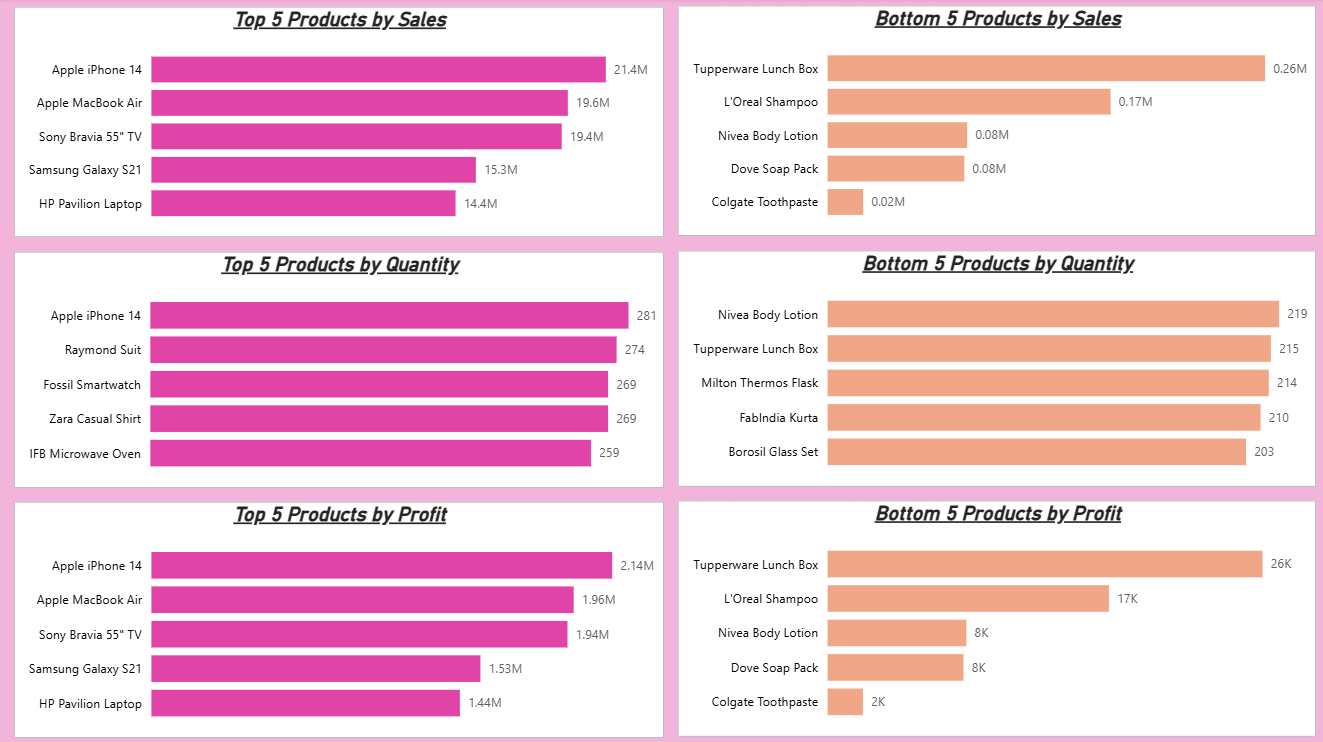

Layout of this report page (visuals, bound fields, positions):
{"tool":"powerbi","page":{"name":"Top/Bottom 5 Analysis","canvas":[1280,720],"ordinal":1},"visuals":[{"type":"barChart","title":"Top 5 Products by Sales","fields":{"Category":["Dim Product.Product Name"],"Y":["Sum(Fact Table.Net Sales)"]},"box":[14.3,8.3,627.1,222.3],"z":0},{"type":"barChart","title":"Bottom 5 Products by Sales","fields":{"Category":["Dim Product.Product Name"],"Y":["Sum(Fact Table.Net Sales)"]},"box":[654.5,7.6,616.1,222.3],"z":1000},{"type":"barChart","title":"Top 5 Products by Quantity","fields":{"Category":["Dim Product.Product Name"],"Y":["Sum(Fact Table.Units Sold)"]},"box":[14.3,244.4,627.1,227.8],"z":2000},{"type":"barChart","title":"Bottom 5 Products by Quantity","fields":{"Category":["Dim Product.Product Name"],"Y":["Sum(Fact Table.Units Sold)"]},"box":[654.5,243.6,616.1,227.8],"z":3000},{"type":"barChart","title":"Top 5 Products by Profit","fields":{"Category":["Dim Product.Product Name"],"Y":["Sum(Fact Table.Profit)"]},"box":[14.3,485.9,627.1,227.8],"z":4000},{"type":"barChart","title":"Bottom 5 Products by Profit","fields":{"Category":["Dim Product.Product Name"],"Y":["Sum(Fact Table.Profit)"]},"box":[654.5,485.1,616.1,227.8],"z":5000}]}

Visuals, with their boxes in screenshot pixels (x1, y1, x2, y2), scaled from the page's 1280x720 canvas onto the 1323x742 screenshot:
"Top 5 Products by Sales" barChart: bbox(15, 9, 663, 238)
"Bottom 5 Products by Sales" barChart: bbox(676, 8, 1313, 237)
"Top 5 Products by Quantity" barChart: bbox(15, 252, 663, 487)
"Bottom 5 Products by Quantity" barChart: bbox(676, 251, 1313, 486)
"Top 5 Products by Profit" barChart: bbox(15, 501, 663, 736)
"Bottom 5 Products by Profit" barChart: bbox(676, 500, 1313, 735)
